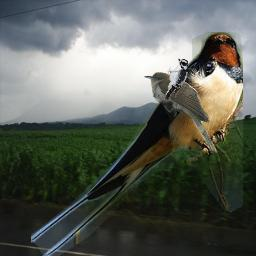Cuckoo: (144, 72, 216, 154)
Swallow: (31, 32, 243, 256)
Woodpecker: (164, 58, 188, 101)
